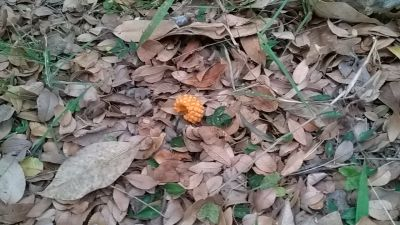eggs: (174, 92, 206, 124)
